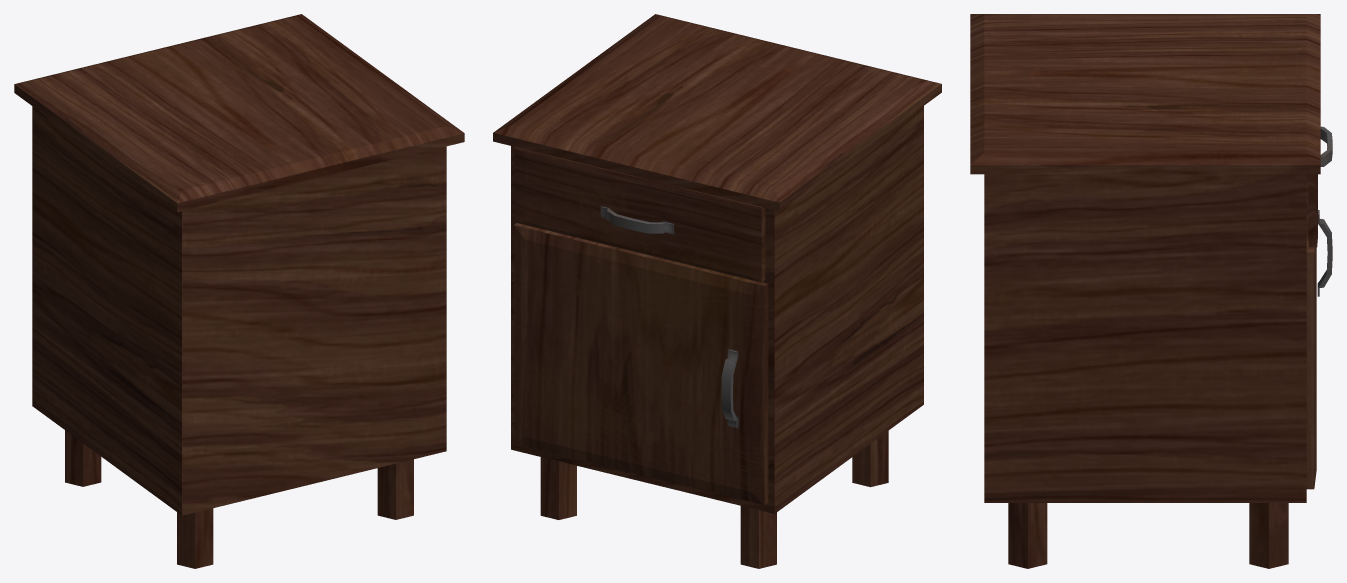
The model's file is Bedside_table__uv.fbx.
3 renders of one model, left to right at view 1: azimuth 30°, elevation 25°; view 2: azimuth 150°, elevation 25°; view 3: azimuth 270°, elevation 25°, orthographic. The views are drawn at different scales.
Visible parts, largest first — view 1: bedside; view 2: bedside; view 3: bedside.
Boxes of the visible parts, bbox=[...] form: bedside: bbox=[14, 14, 464, 568]; bedside: bbox=[493, 14, 941, 568]; bedside: bbox=[970, 14, 1332, 568].
Bounding box in the file's own units: 1.05 × 1.36 × 1.06.
